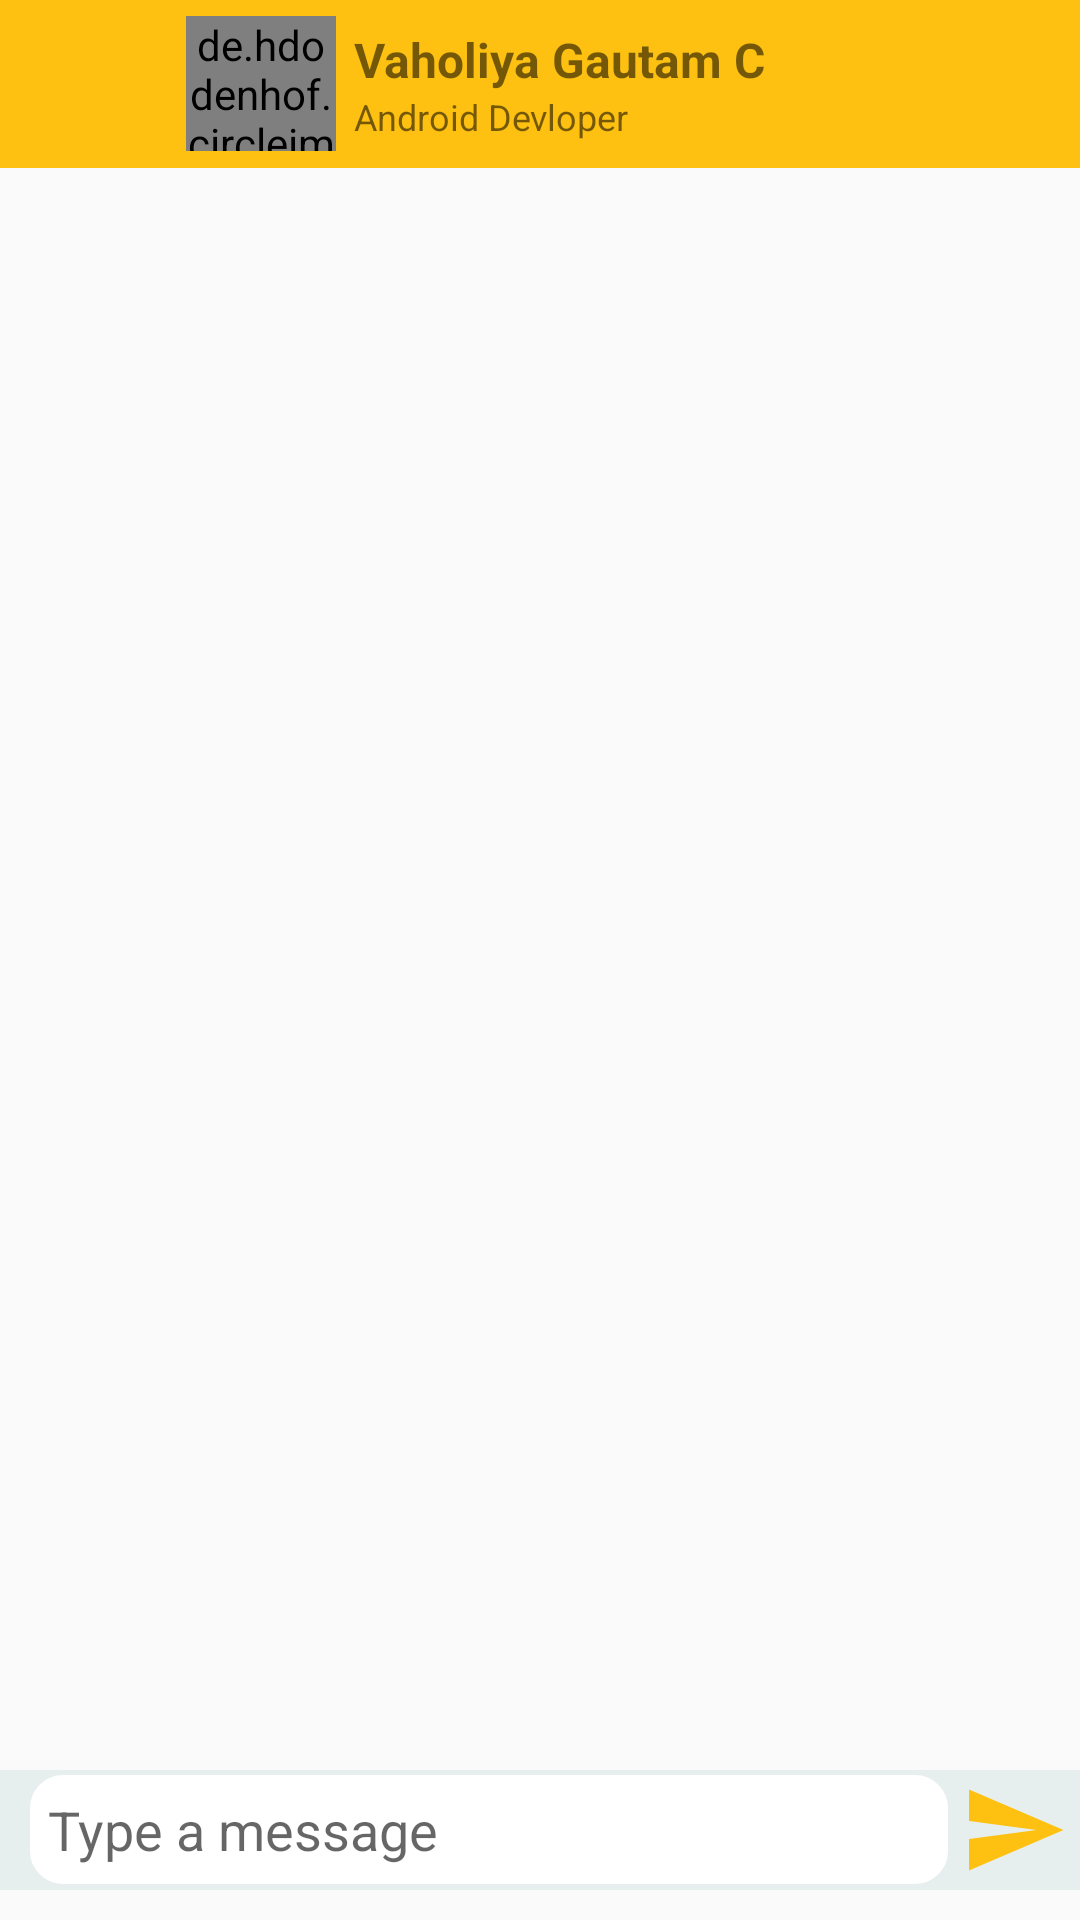

Icon click points for this 1080px x 1920px phone screenshot, format (x=x, y=y):
send: (x=1016, y=1830)
